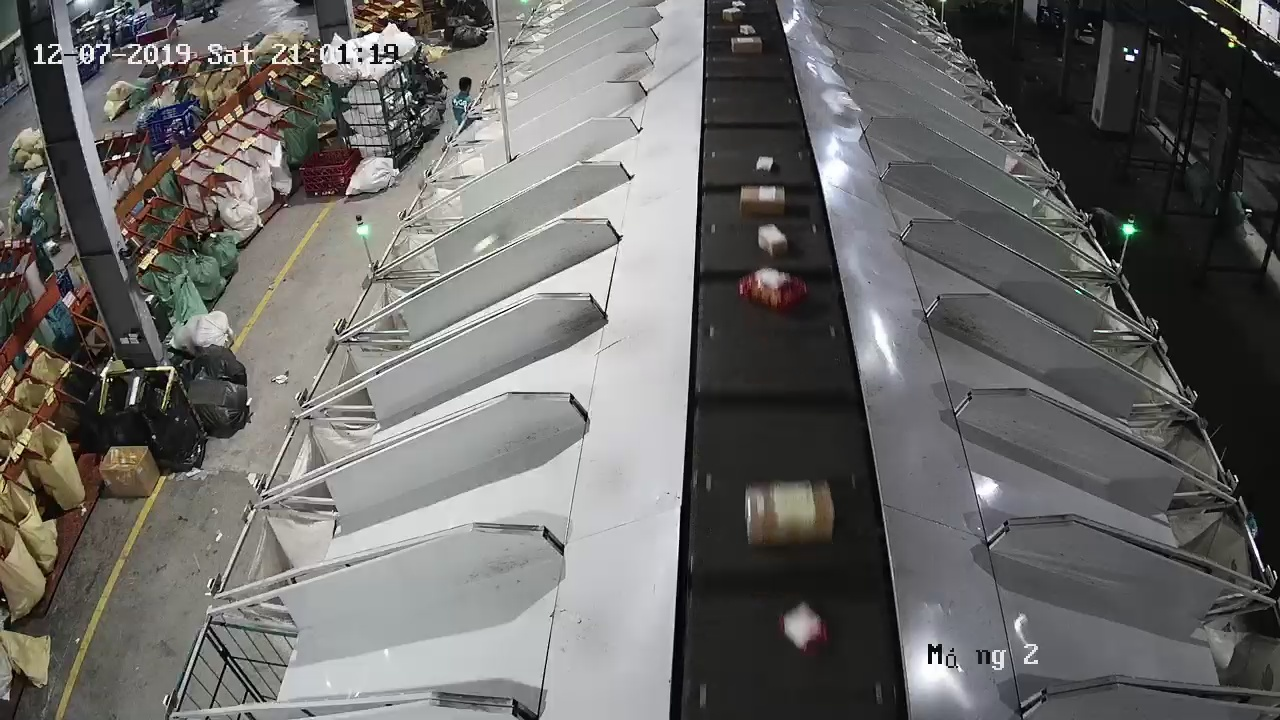parcel: (820, 87, 863, 120)
